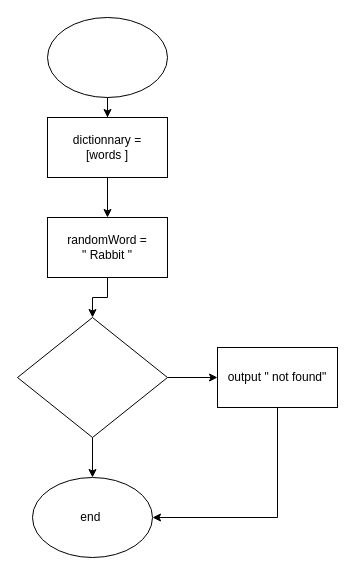
The diagram is 355 pixels wide and 575 high, and some of its shapes have lost their labels. Each missing label, with the centre of its shape:
"start" goes at pixel 107 57.
"while andomWord != Rabbit" goes at pixel 92 377.
